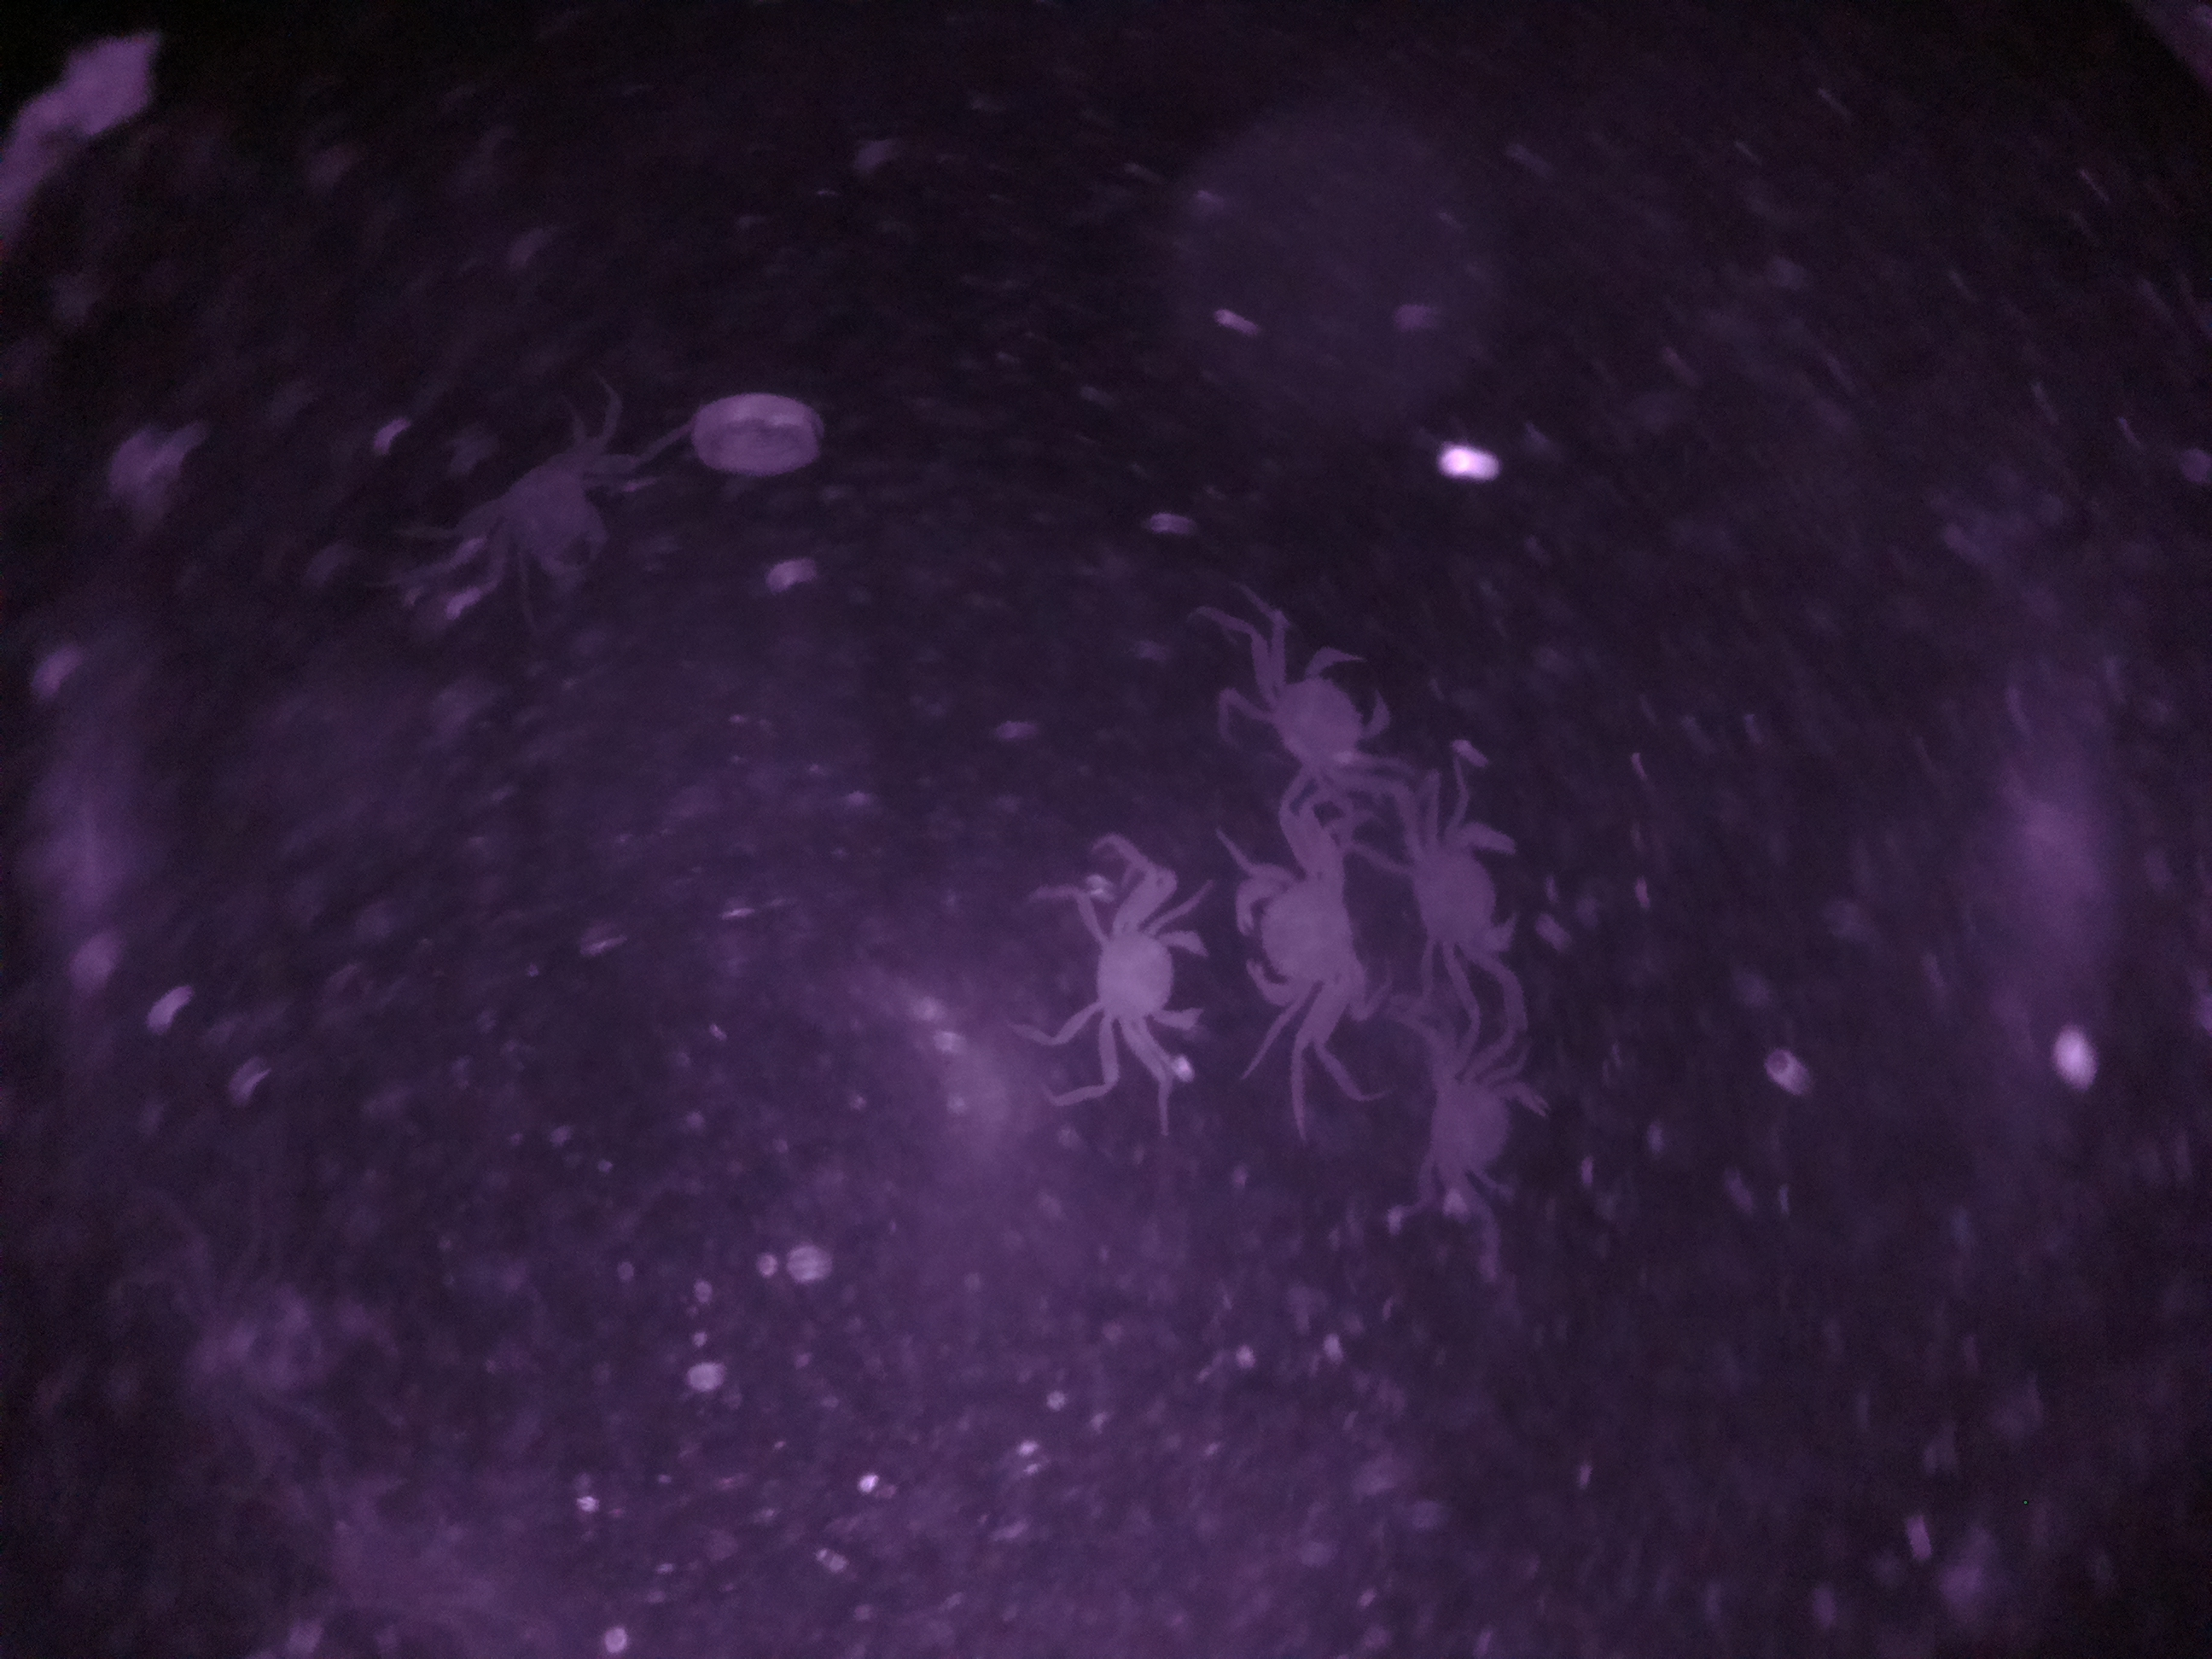Crab: (1052, 864, 1214, 1119), (1238, 823, 1383, 1049), (1231, 615, 1399, 796), (1397, 791, 1538, 979)
